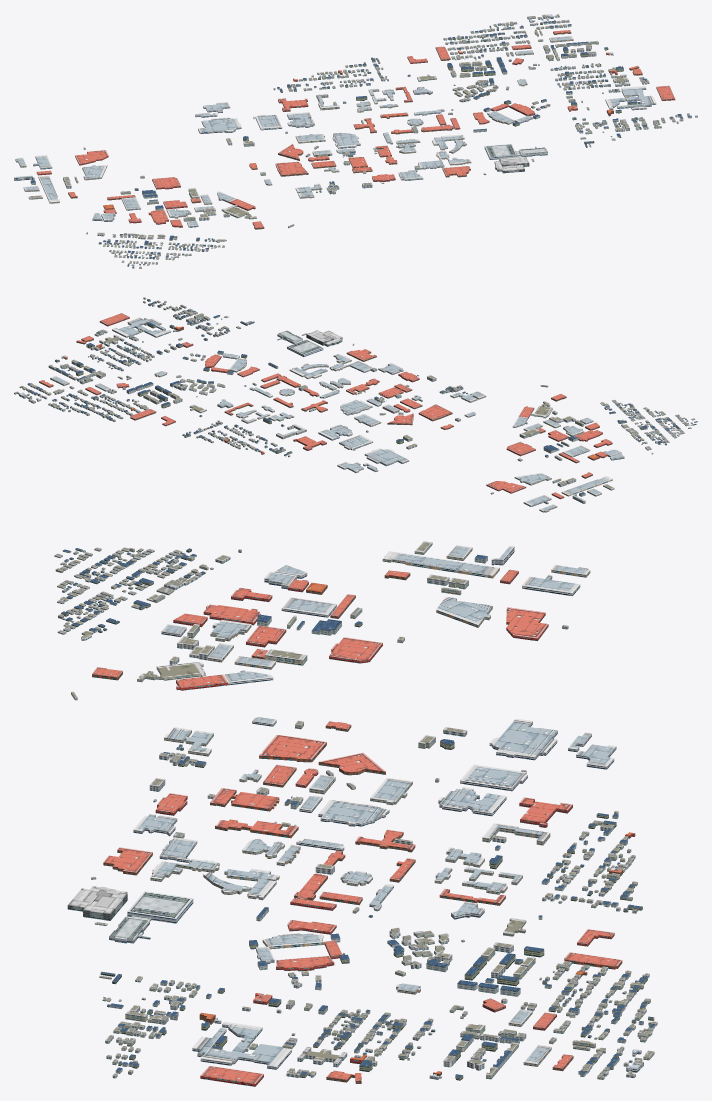
3 renders of one model, top to bottom at view 1: azimuth 30°, elevation 25°; view 2: azimuth 150°, elevation 25°; view 3: azimuth 270°, elevation 25°, orthographic. The views are drawn at different scales.
Visible parts, largest first — view 1: StadiumSection, UCSection; view 2: StadiumSection, UCSection; view 3: StadiumSection, UCSection.
Boxes of the visible parts, x1,y1,x2,y2 form: StadiumSection: [273, 14, 697, 180]; UCSection: [14, 98, 395, 268]; StadiumSection: [14, 297, 403, 457]; UCSection: [293, 371, 697, 512]; StadiumSection: [67, 800, 657, 1086]; UCSection: [54, 541, 616, 827].
Bounding box in the file's own units: 2752 × 18.84 × 1290.
